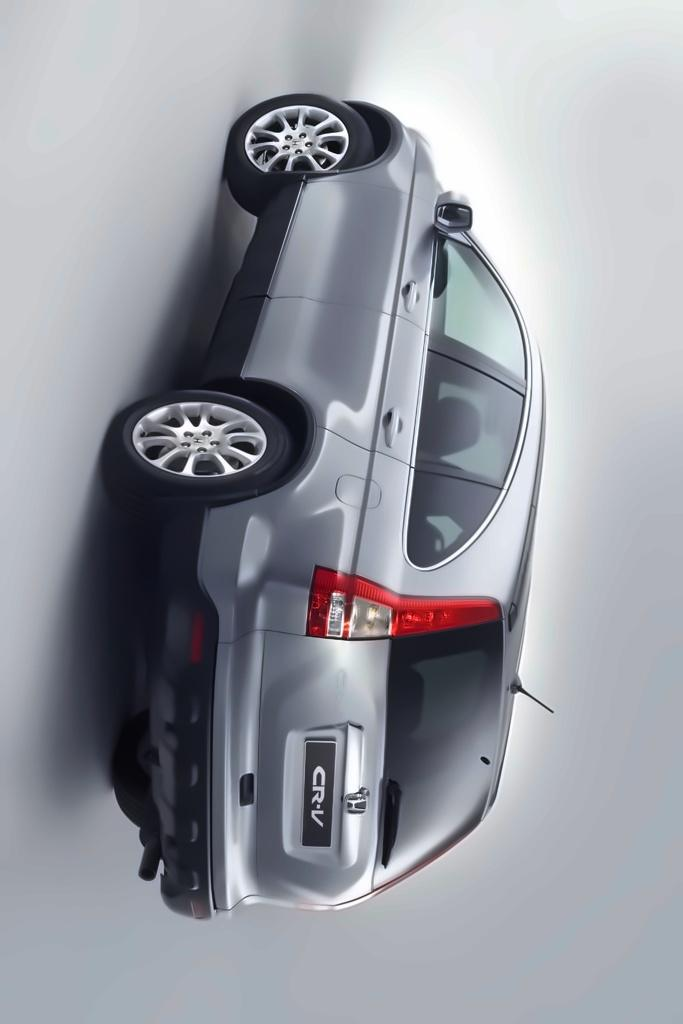Car boot: (212, 624, 517, 913)
Fender - -F-L-: (281, 127, 491, 201)
Fender - -R-L-: (257, 420, 430, 641)
Passenger-s door - -F-L-: (264, 182, 544, 383)
Passenger-s door - -R-L-: (240, 303, 542, 488)
Rear bumper: (145, 505, 303, 934)
Rear light - -L-: (304, 545, 514, 648)
Side bumper - -L-: (194, 162, 308, 406)
Side mirror - -L-: (415, 180, 479, 238)
